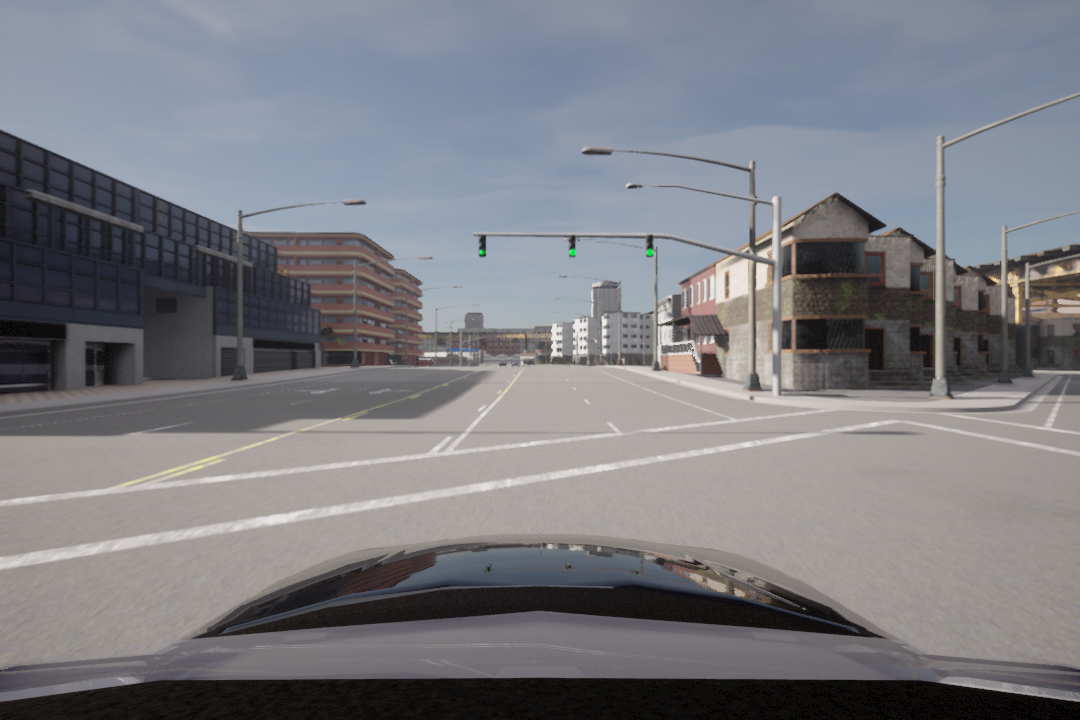TrafficLight: (643, 232, 656, 258), (478, 232, 490, 258), (567, 234, 578, 258)
